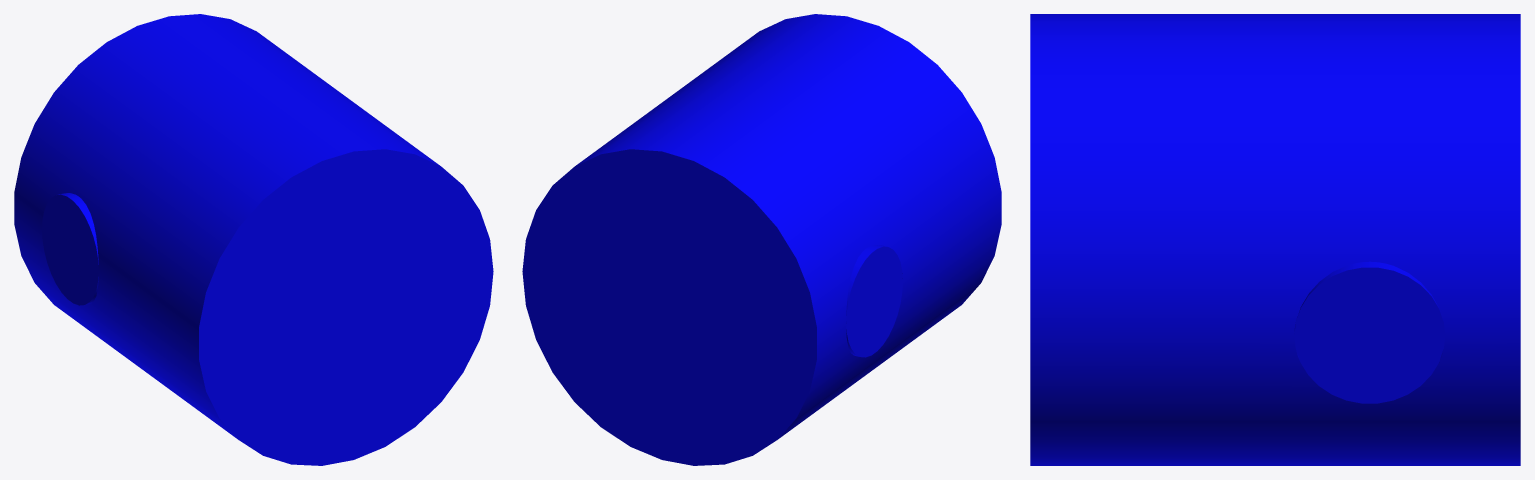
The model's file is R_Wrist_Roll_Assy.obj.
3 views of the same model, side by side, from view 1: azimuth 30°, elevation 25°; view 2: azimuth 150°, elevation 25°; view 3: azimuth 270°, elevation 25° (orthographic). The views are drawn at different scales.
Visible parts, largest first — view 1: mesh4, mesh5, mesh7; view 2: mesh4, mesh3, mesh7; view 3: mesh4, mesh11, mesh10.
Part boxes in pixels (x1,y1,x2,y2): mesh4: (14, 14, 439, 439); mesh5: (199, 149, 493, 465); mesh7: (42, 194, 98, 305); mesh4: (576, 14, 1001, 439); mesh3: (522, 149, 816, 465); mesh7: (846, 246, 902, 357); mesh4: (1030, 14, 1520, 465); mesh11: (1294, 267, 1445, 403); mesh10: (1294, 261, 1442, 333).
Size of the model in its own units: 0.06 by 0.0599 by 0.065.
